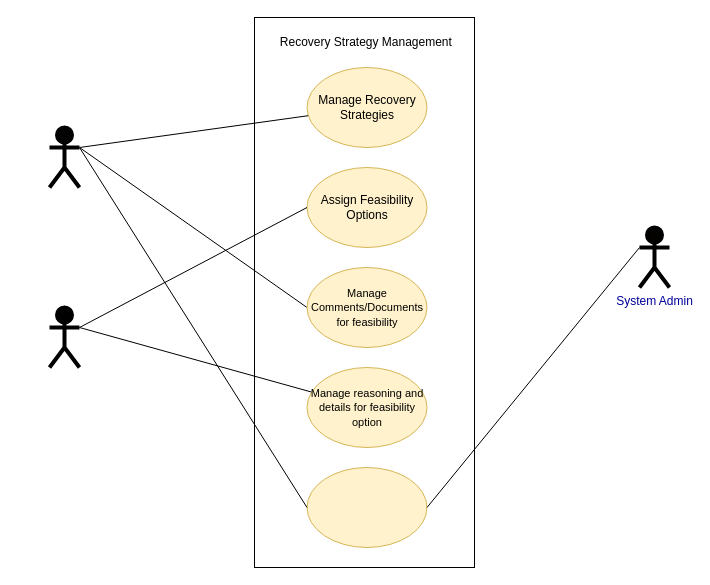
The diagram is 710 pixels wide and 585 high, and some of its shapes have lost their labels. The shapes that lost their labels are listed below. From the top down, each one's centre as x and y in pixels, then its label:
At (64,157): "Strategy Manager".
At (64,337): "Feasibility Analyst".
At (366,507): "Update Recovery Strategies".
